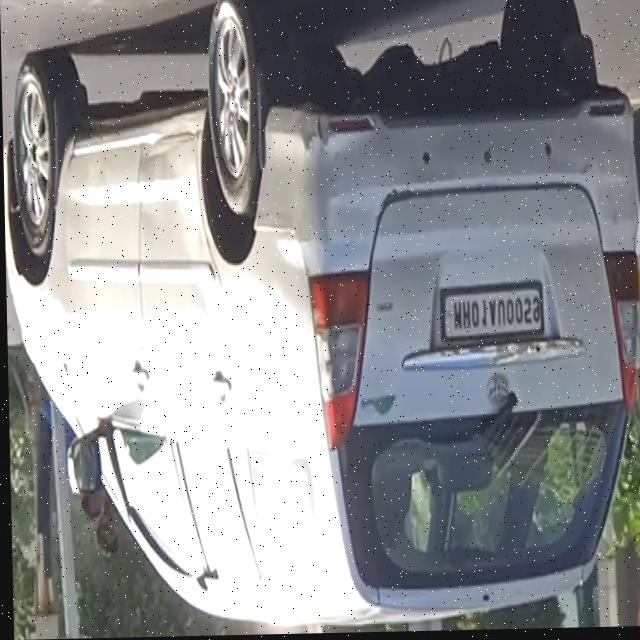plate: (437, 279, 544, 347)
